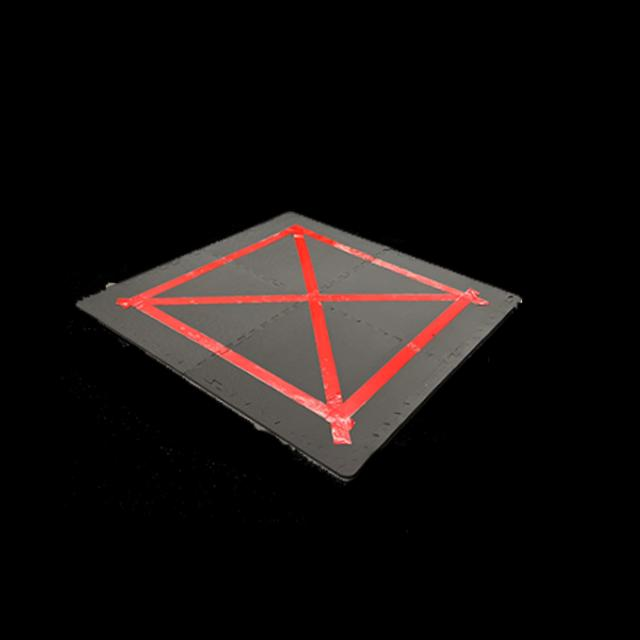landingPads: (76, 191, 529, 490)
